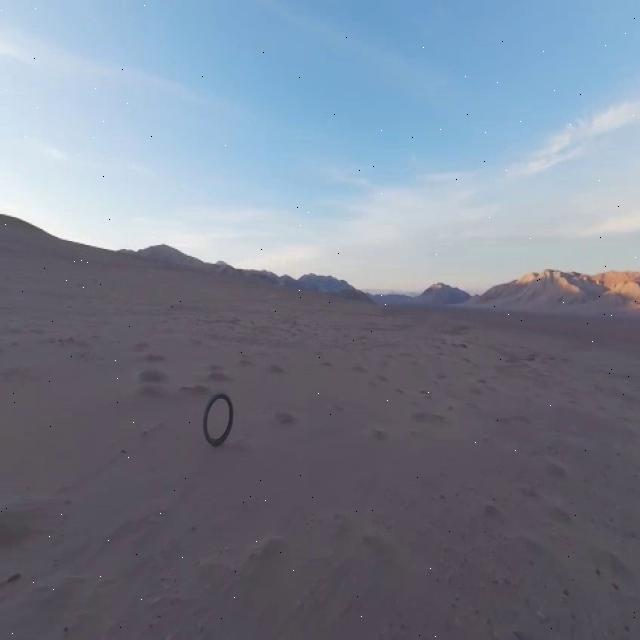Tire: (203, 392, 234, 446)
